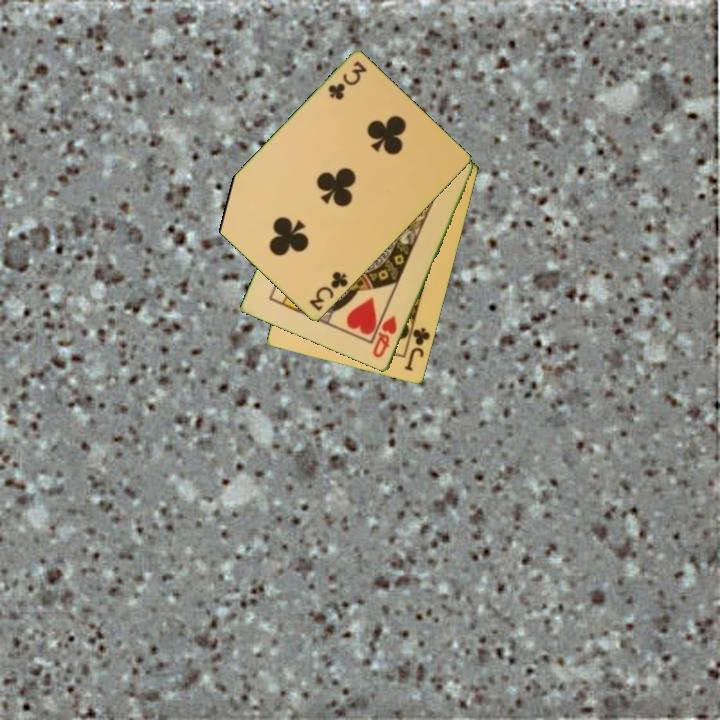3c: (306, 268, 351, 314), (324, 58, 370, 103)
Jc: (401, 319, 433, 374)
Qh: (369, 312, 400, 361)
